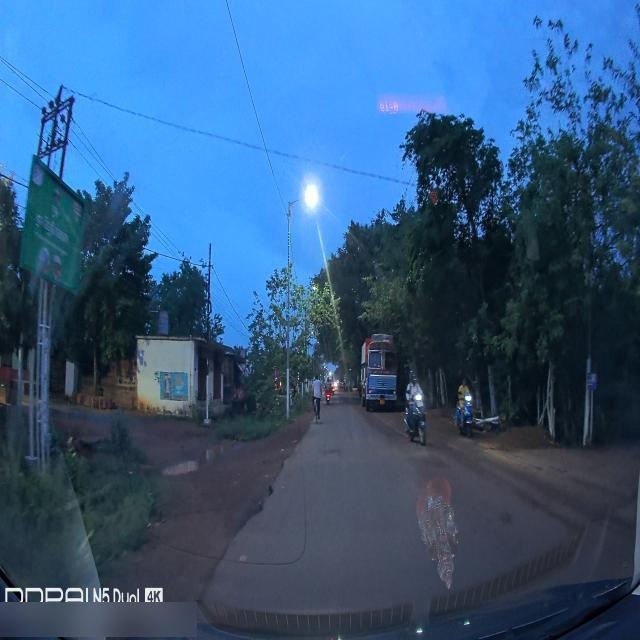pothole: (202, 438, 227, 467), (162, 461, 202, 476)
